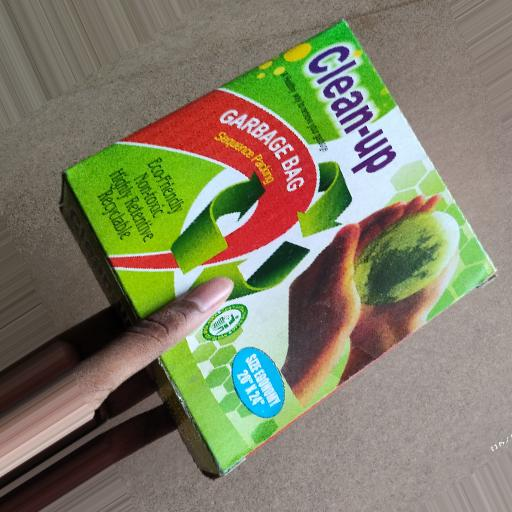CleanUp Garbage bag: (32, 11, 501, 497)
